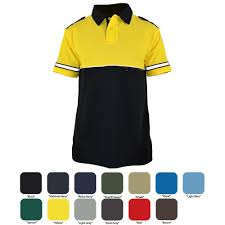C_polo shirt: (53, 2, 189, 174)
